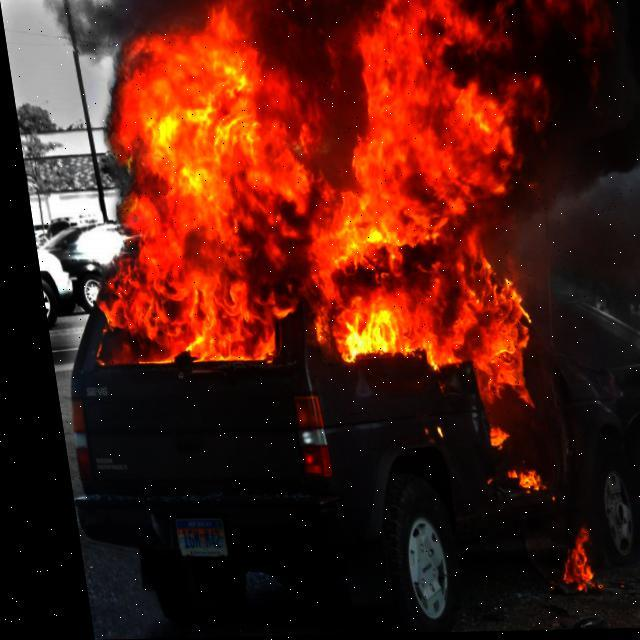Fire: (535, 526, 586, 594), (497, 462, 531, 500)
